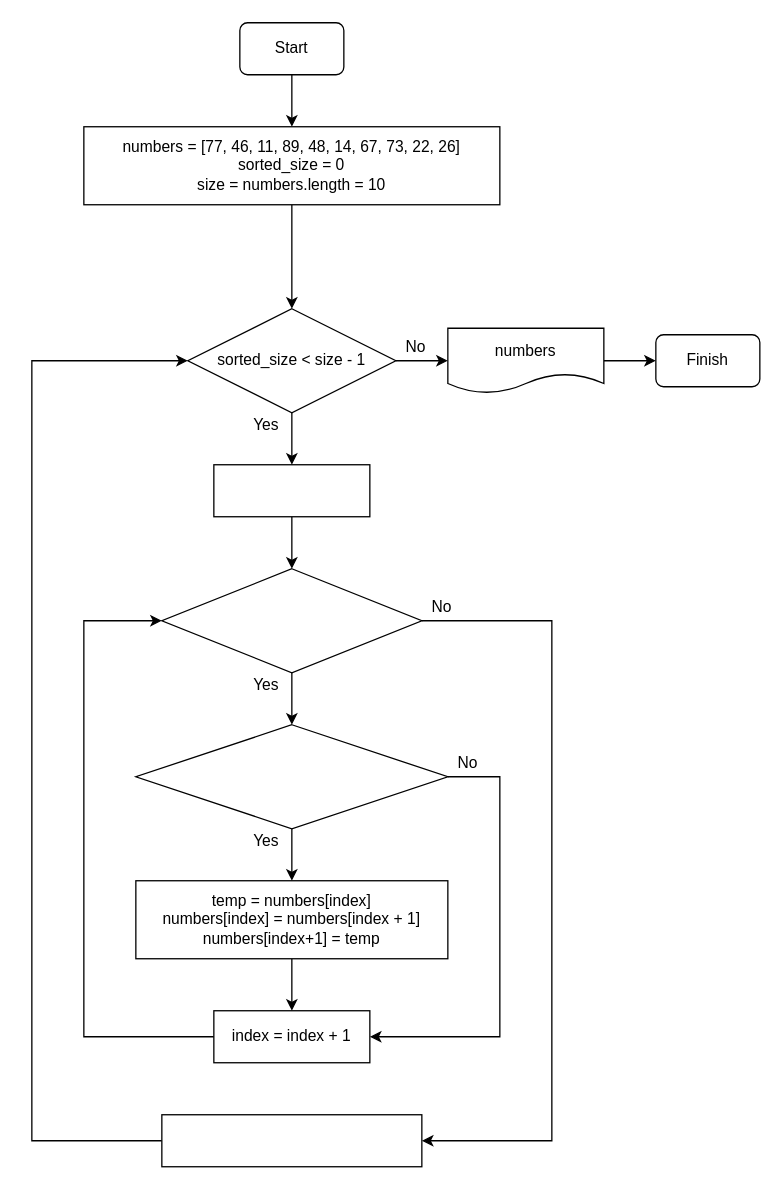
This 783x1190 diagram has some shape labels left out. Here are the shapes that lost their labels. From the top down, the centre of each, then its label:
At (x=291, y=490): "index = 0".
At (x=291, y=620): "index < (size - 1 - sorted_size)".
At (x=291, y=776): "numbers[index] > numbers[index + 1]".
At (x=291, y=1140): "sorted_size = sorted_size + 1".
